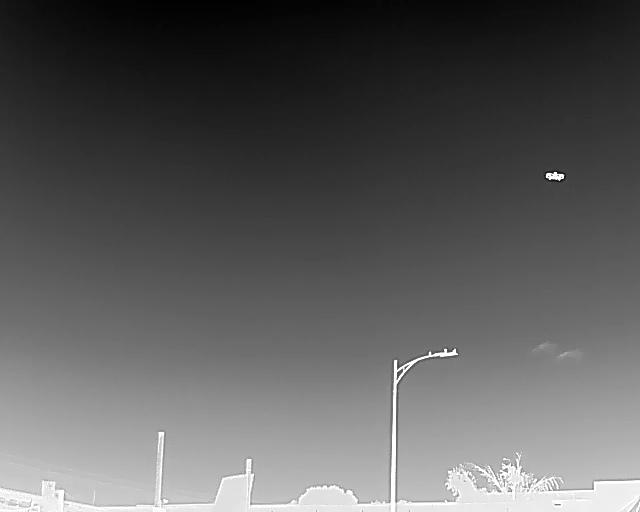fpv-drone: (545, 171, 564, 181)
